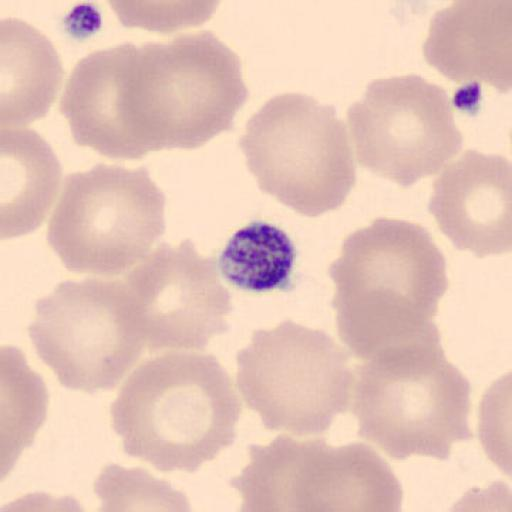Platelet: (216, 217, 302, 295)
RBC: (327, 216, 451, 360), (110, 350, 243, 474), (124, 30, 250, 152), (239, 90, 357, 219), (28, 274, 151, 396), (350, 342, 473, 462), (234, 318, 355, 438), (47, 160, 169, 277), (58, 40, 170, 163), (346, 72, 463, 188), (122, 236, 234, 355), (234, 433, 360, 512), (335, 284, 443, 376), (428, 147, 512, 259), (422, 0, 512, 96), (295, 438, 404, 512), (2, 15, 65, 129), (0, 343, 50, 484), (2, 127, 62, 241), (89, 462, 196, 512), (104, 0, 225, 35), (476, 369, 512, 479), (436, 467, 512, 512), (437, 479, 511, 512), (0, 488, 94, 512)
